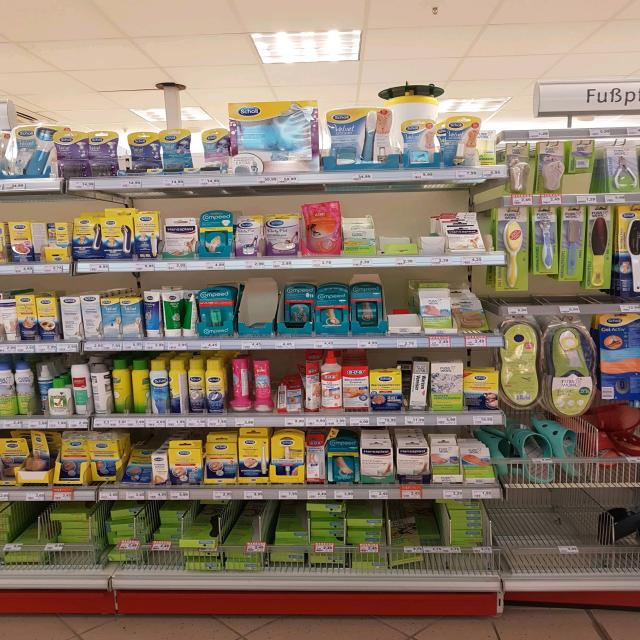void: (549, 497, 591, 590), (510, 503, 544, 583), (242, 285, 281, 349), (392, 277, 416, 351)
